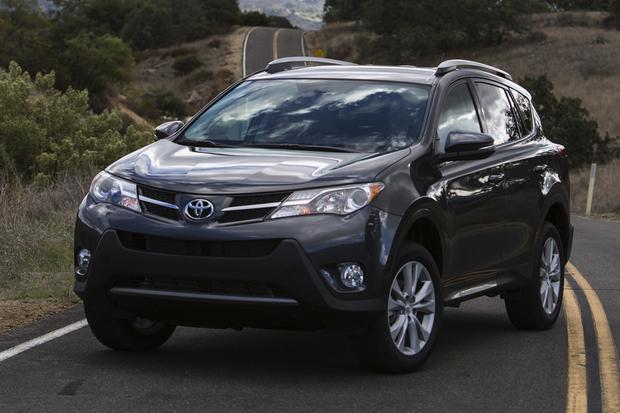Black Toyota RAV-4: (71, 59, 575, 376)
